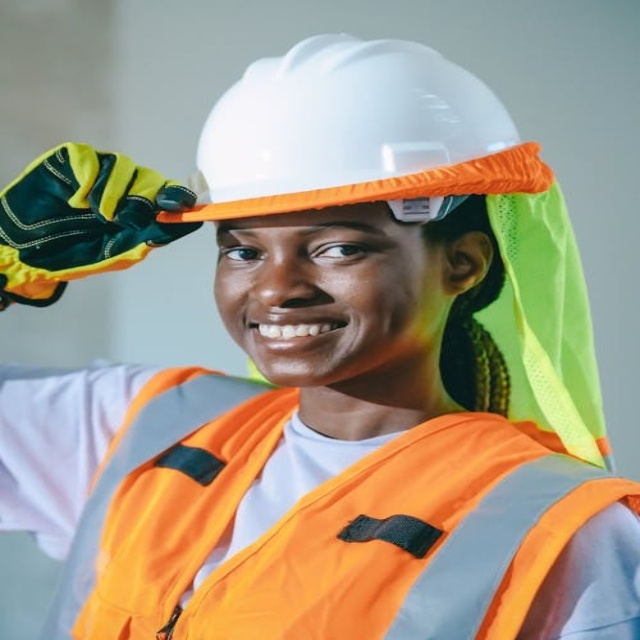Guantes: (3, 137, 200, 310)
Sin_gafas: (214, 233, 393, 287)
Sin_mascara: (233, 305, 353, 367)
